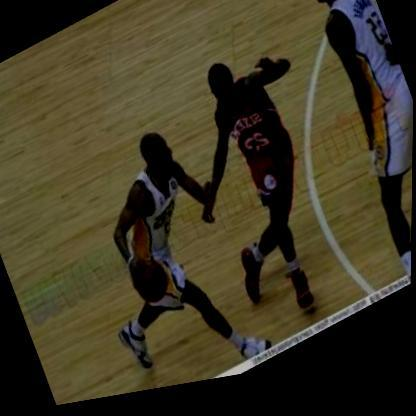basketball: (126, 256, 176, 319)
